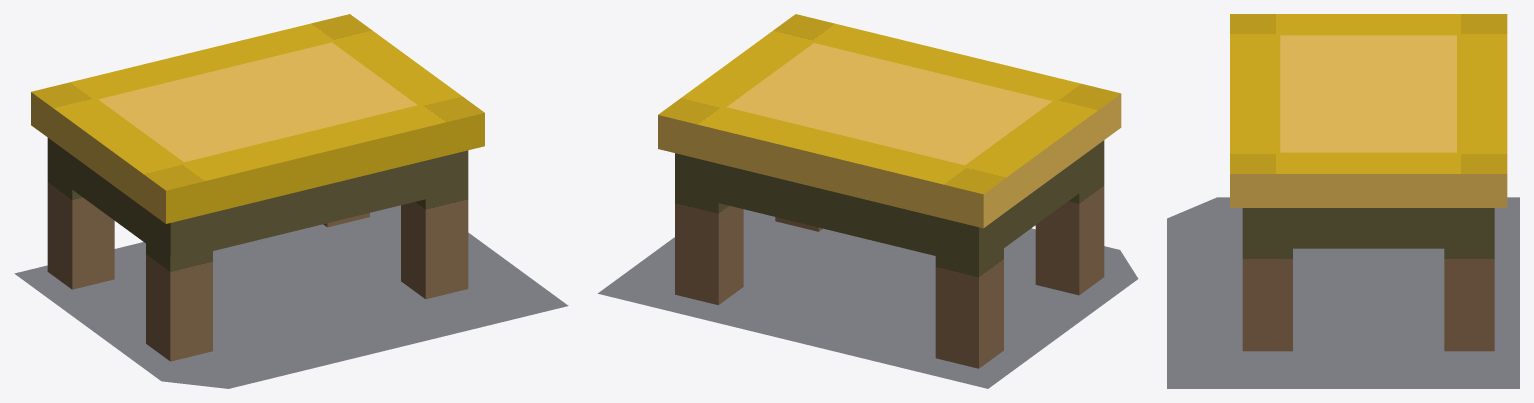
The model's file is modelo.obj.
3 views of the same model, side by side, from view 1: azimuth 30°, elevation 25°; view 2: azimuth 150°, elevation 25°; view 3: azimuth 270°, elevation 25° (orthographic). The views are drawn at different scales.
Parts seen in each view (by area): view 1: polygon1, polygon0; view 2: polygon1, polygon0; view 3: polygon1, polygon0.
Part boxes in pixels (x1,y1,x2,y2): polygon1: (31, 14, 484, 361); polygon0: (14, 205, 568, 388); polygon1: (658, 14, 1121, 368); polygon0: (598, 209, 1137, 388); polygon1: (1230, 14, 1507, 351); polygon0: (1167, 197, 1519, 388).
Bounding box in the file's own units: 36 × 16.5 × 28.
2 materials, 2 textured.
